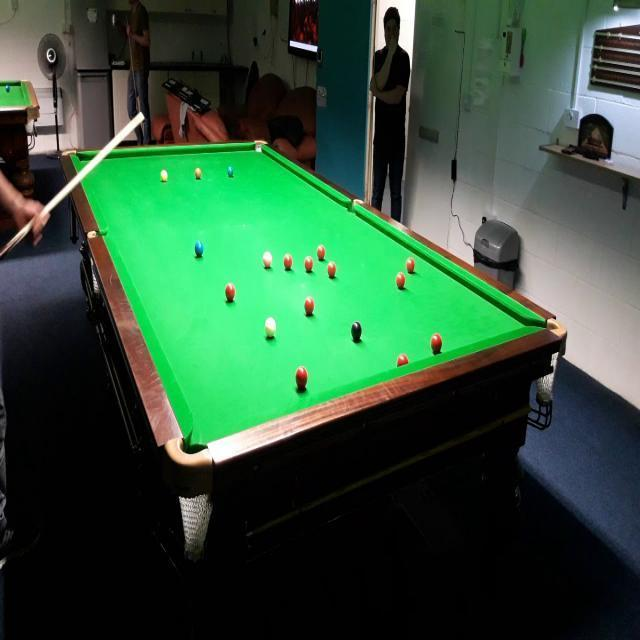Ball: (295, 364, 307, 390), (264, 317, 277, 339), (430, 334, 442, 356), (351, 321, 362, 343), (395, 272, 407, 291), (396, 353, 411, 368), (303, 295, 314, 315), (226, 284, 236, 305), (327, 260, 336, 281), (283, 254, 292, 273), (194, 241, 204, 258), (405, 257, 415, 274), (263, 252, 273, 268), (304, 257, 313, 273), (317, 245, 326, 261), (194, 167, 202, 180), (161, 168, 167, 183), (226, 166, 234, 177)
